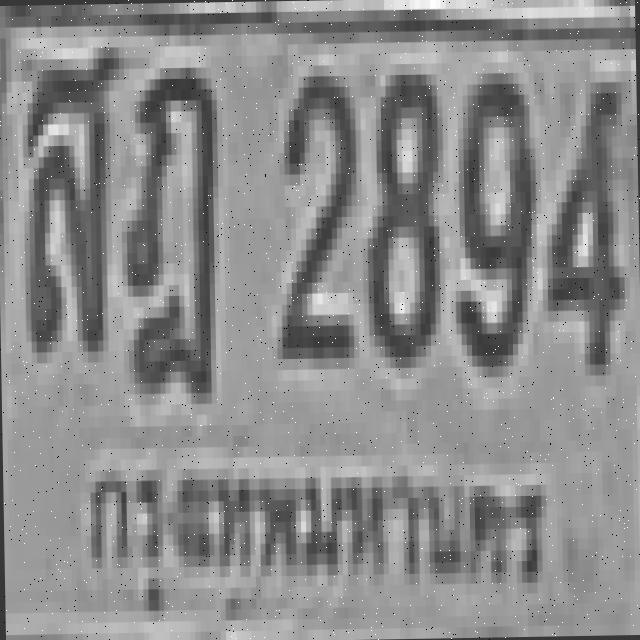2: (272, 65, 354, 348)
23DorChaDa: (118, 56, 216, 394)
4: (538, 71, 620, 365)
49SorSuea: (15, 36, 118, 342)
8: (359, 63, 441, 357)
9: (451, 62, 533, 356)
Bangkok: (66, 433, 550, 625)
